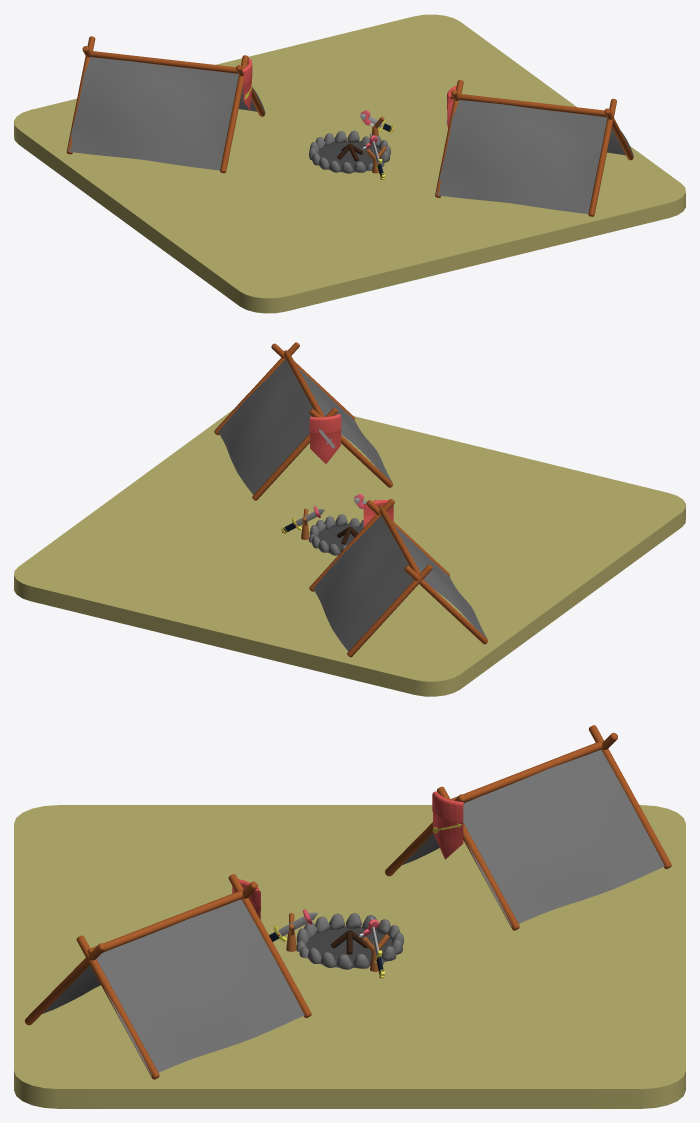
File: army camp (1).fbx
The picture shows the model from 3 angles, top to bottom: view 1: azimuth 30°, elevation 25°; view 2: azimuth 150°, elevation 25°; view 3: azimuth 270°, elevation 25°; orthographic projection. The views are drawn at different scales.
Visible parts, largest first — view 1: Cube.004, Plane.005, Plane.007; view 2: Cube.004, Plane.007, Plane.005, Plane.008; view 3: Cube.004, Plane.005, Plane.007, Cylinder.099.
Part boxes in pixels (box(x1,y1,x2,y2)): Cube.004: box(14, 14, 685, 313); Plane.005: box(435, 80, 633, 216); Plane.007: box(66, 36, 265, 173); Cube.004: box(14, 409, 685, 696); Plane.007: box(309, 499, 487, 657); Plane.005: box(214, 342, 392, 500); Plane.008: box(309, 414, 341, 463); Cube.004: box(14, 805, 685, 1108); Plane.005: box(24, 874, 311, 1079); Plane.007: box(385, 725, 671, 930); Cylinder.099: box(432, 791, 464, 859).
Bounding box in the file's own units: 11581 × 2513 × 11581.
